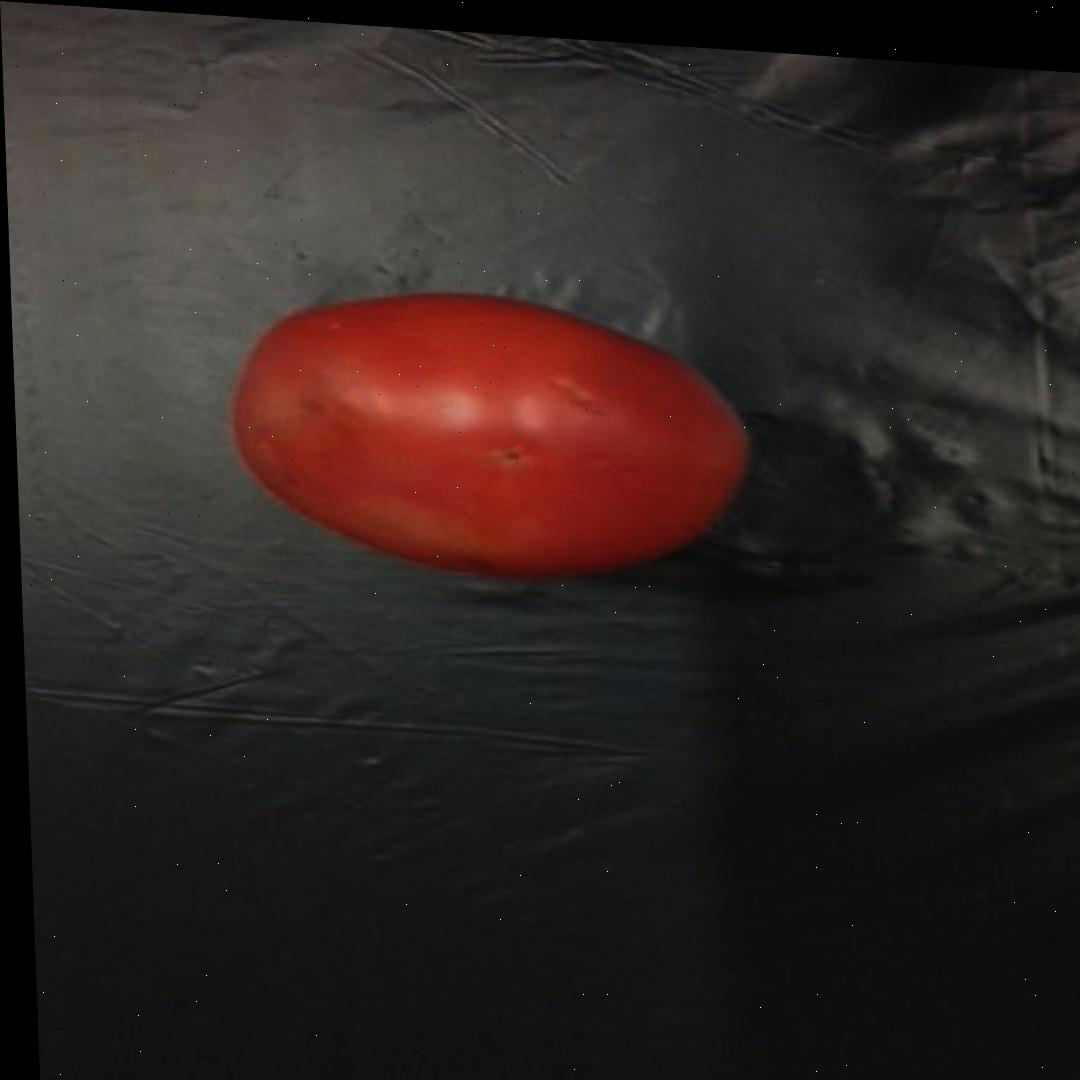matang: (228, 275, 761, 591)
